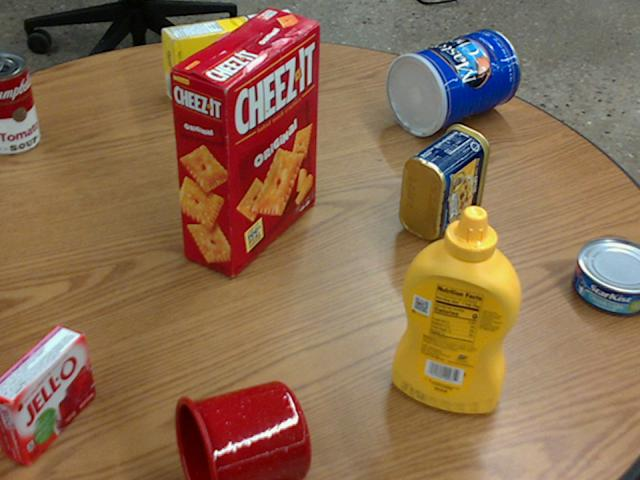cracker_box: (168, 8, 320, 276)
gelatin_box: (0, 324, 91, 464)
master_chef_can: (384, 28, 518, 135)
mug: (171, 381, 309, 479)
mustard_bottle: (391, 205, 520, 412)
potted_meat_can: (399, 123, 488, 239)
sugar_box: (161, 8, 299, 104)
tomato_soup_can: (0, 48, 38, 154)
tuna_fish_can: (571, 237, 639, 314)
